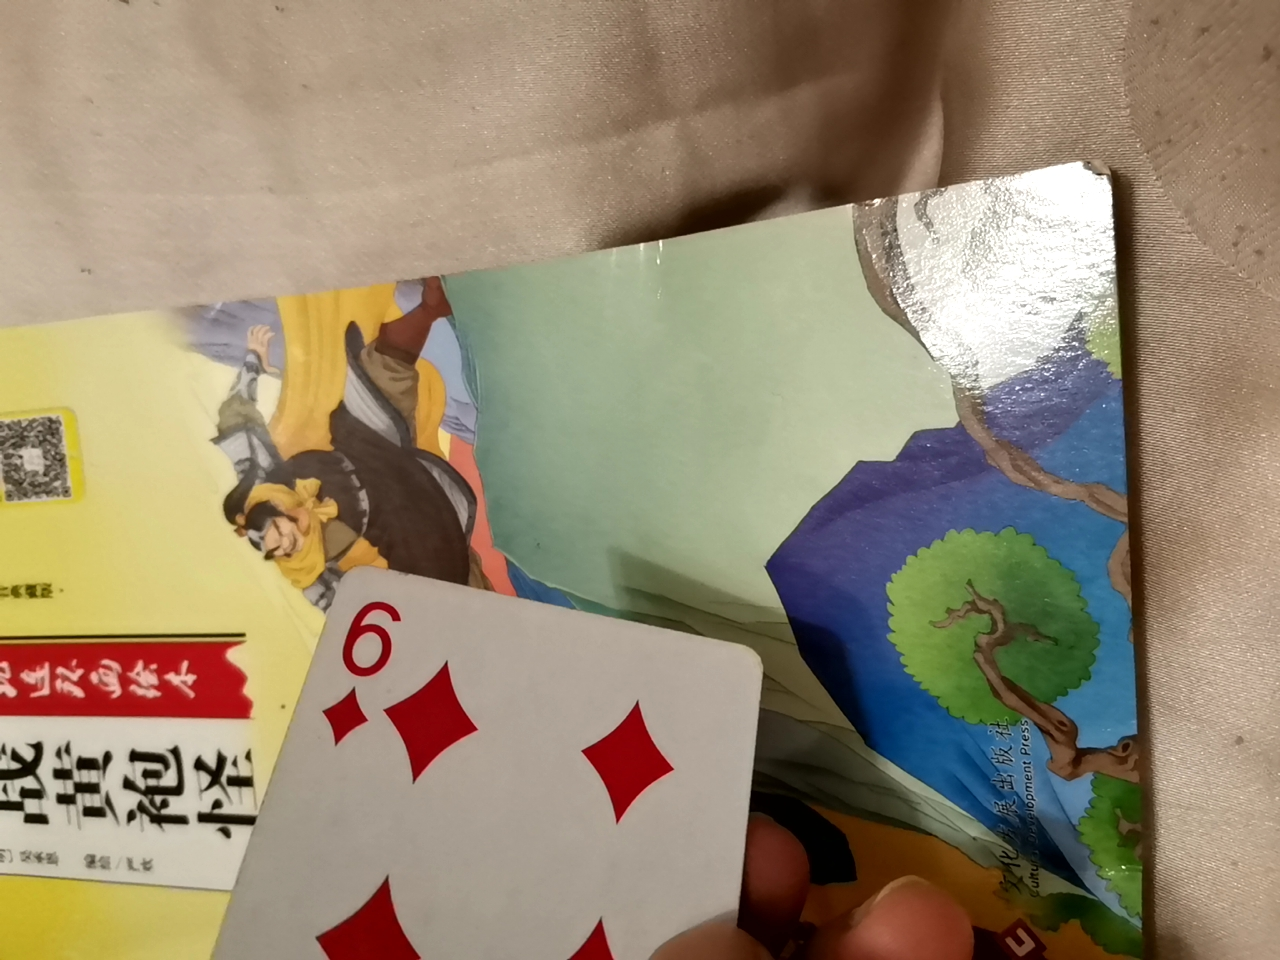fk 6: (284, 570, 761, 960)
